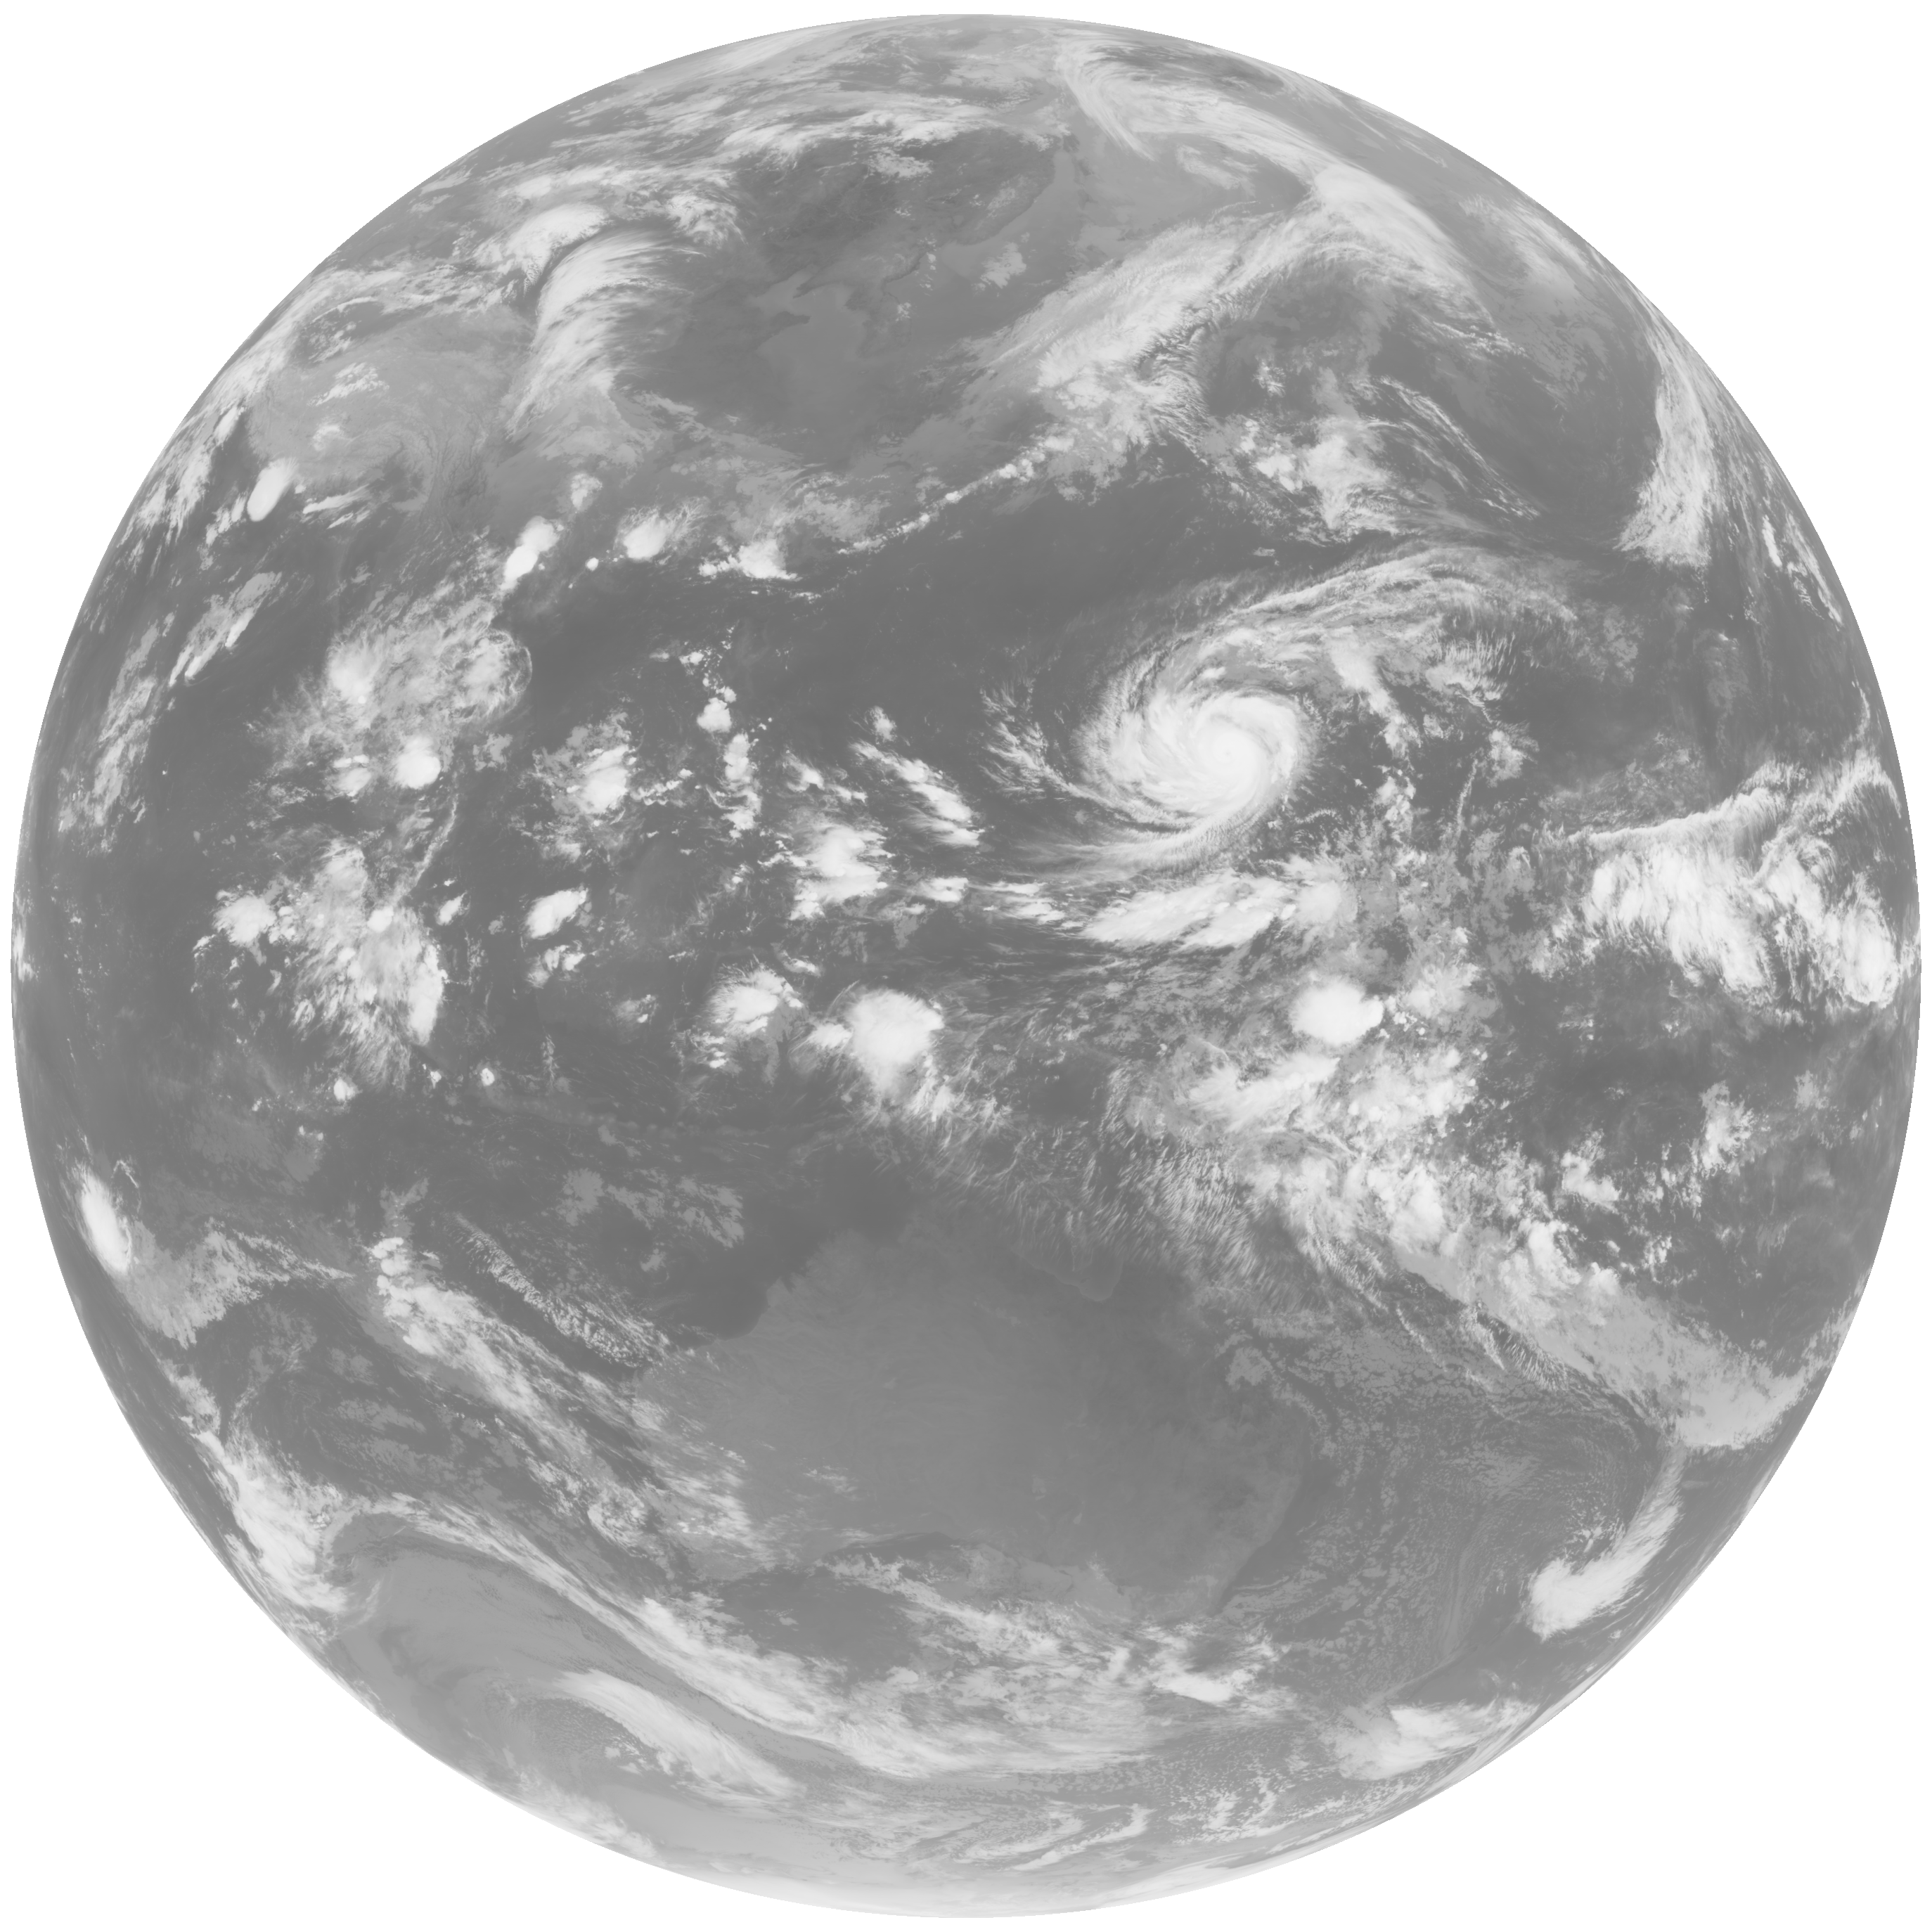typhoon: (948, 538, 1592, 906)
